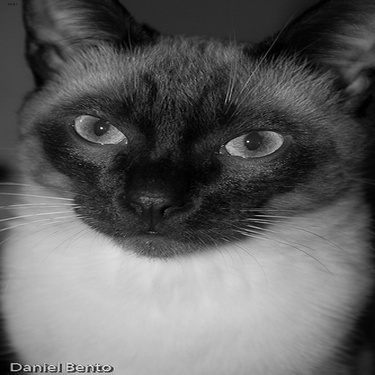cat: (9, 1, 371, 371)
